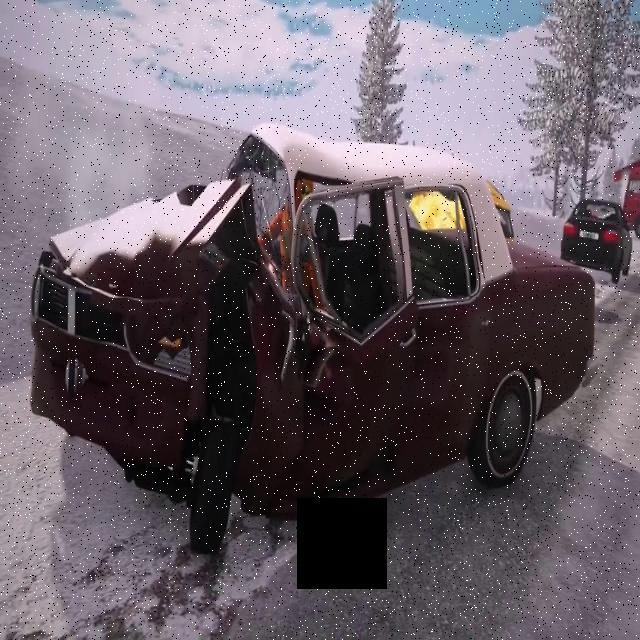severe: (23, 114, 603, 568)
